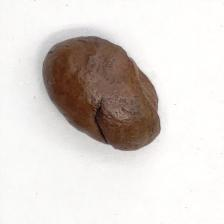NG: (124, 40, 161, 118), (89, 95, 118, 149)
